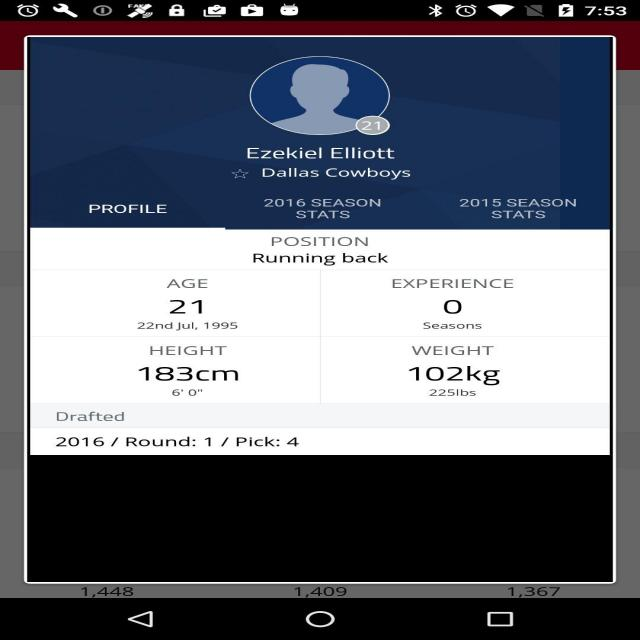button: (446, 189, 622, 231), (238, 190, 376, 226), (80, 192, 216, 225)
icon: (232, 67, 434, 110)
text: (358, 270, 540, 388), (118, 276, 288, 392), (173, 136, 488, 181), (230, 240, 472, 266), (19, 433, 314, 451), (46, 406, 165, 430)
